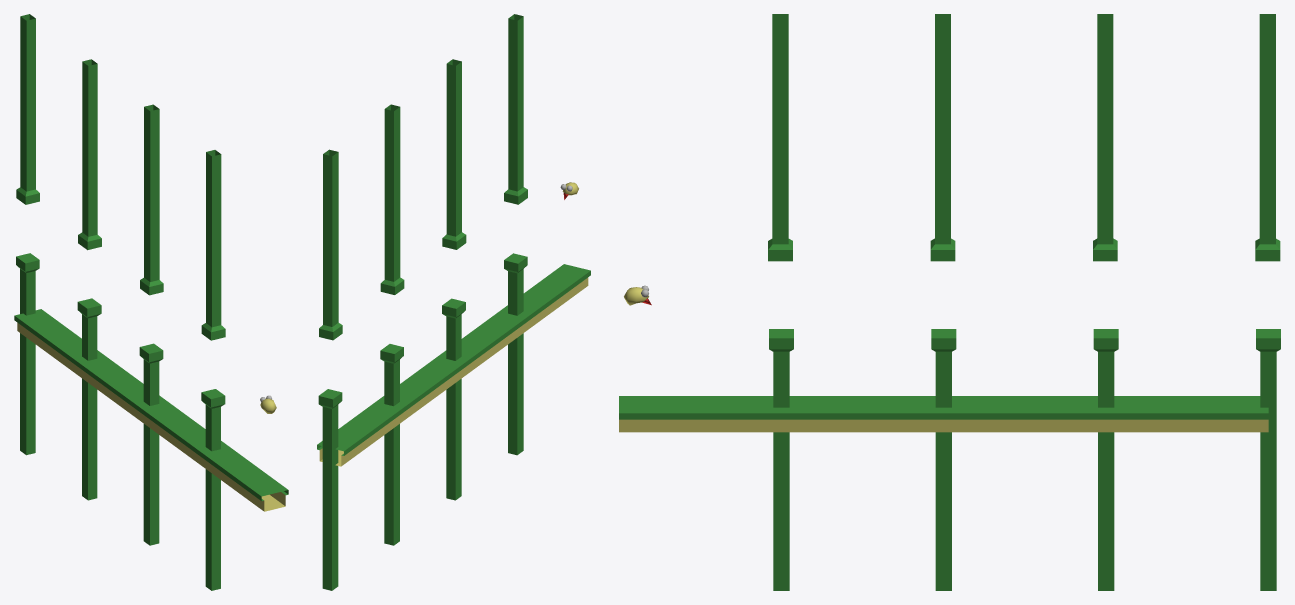
The model's file is Escenario.glb.
3 renders of one model, left to right at view 1: azimuth 30°, elevation 25°; view 2: azimuth 150°, elevation 25°; view 3: azimuth 270°, elevation 25°, orthographic. The views are drawn at different scales.
Parts seen in each view (by area): view 1: columnas2, columnas, columnas3, columnas4, suelo, suelo2, suelo4, suelo3; view 2: columnas4, columnas3, columnas2, columnas, suelo4, suelo, suelo2, suelo3; view 3: columnas4, columnas3, columnas, columnas2, suelo, suelo2, suelo4, suelo3.
Part boxes in pixels (bbox=[...]): columnas2: bbox=[139, 104, 163, 545]; columnas: bbox=[201, 150, 225, 590]; columnas3: bbox=[77, 59, 101, 500]; columnas4: bbox=[16, 14, 39, 455]; suelo: bbox=[200, 444, 288, 511]; suelo2: bbox=[138, 399, 226, 466]; suelo4: bbox=[14, 309, 102, 375]; suelo3: bbox=[76, 354, 164, 420]; columnas4: bbox=[318, 149, 342, 590]; columnas3: bbox=[380, 104, 404, 545]; columnas2: bbox=[442, 59, 466, 500]; columnas: bbox=[504, 14, 527, 455]; suelo4: bbox=[317, 399, 405, 466]; suelo: bbox=[502, 264, 590, 330]; suelo2: bbox=[441, 309, 529, 375]; suelo3: bbox=[379, 354, 467, 420]; columnas4: bbox=[1255, 14, 1280, 590]; columnas3: bbox=[1093, 14, 1118, 590]; columnas: bbox=[768, 14, 793, 590]; columnas2: bbox=[930, 14, 956, 590]; suelo: bbox=[619, 396, 781, 432]; suelo2: bbox=[781, 396, 943, 432]; suelo4: bbox=[1106, 396, 1268, 432]; suelo3: bbox=[943, 396, 1105, 432].
Size of the model in its own units: 2.52 by 38.8 by 40.77.
Materials: 4 (4 with a texture image).
